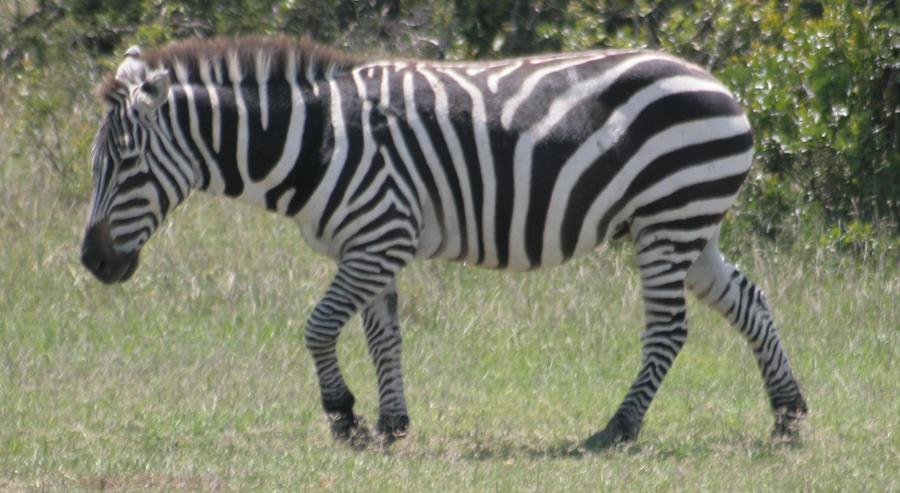zebra_plains: (275, 41, 755, 289)
